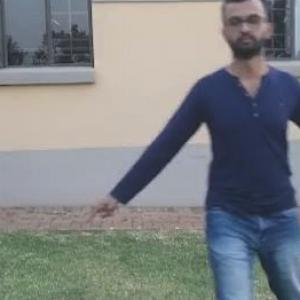land: (109, 19, 299, 299)
